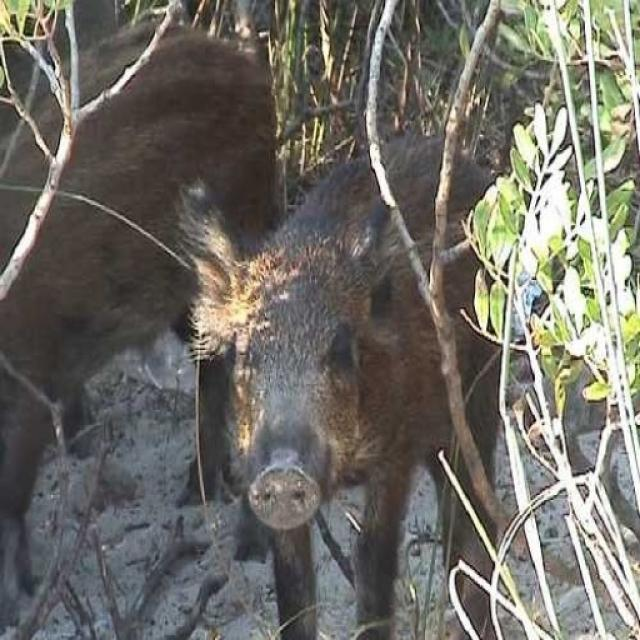pig: (212, 88, 601, 599)
